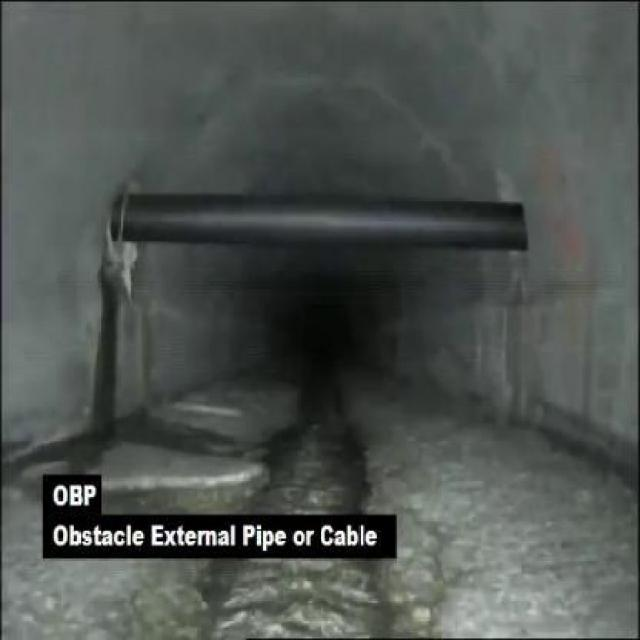Utility intrusion: (88, 188, 557, 262)
